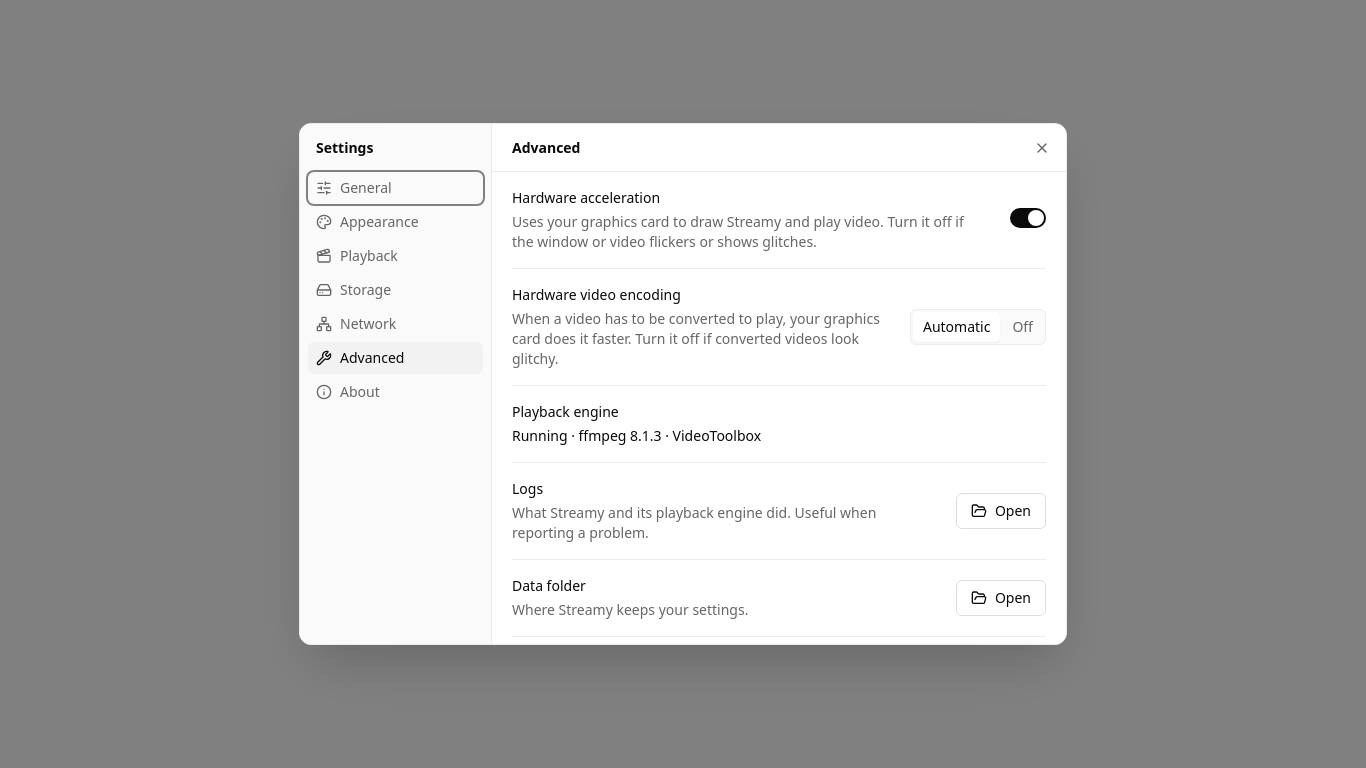
Test: Advanced › says what went wrong in plain words, even if told otherwise
Click the button "Advanced": {"x": 396, "y": 358} [308,342,483,374]
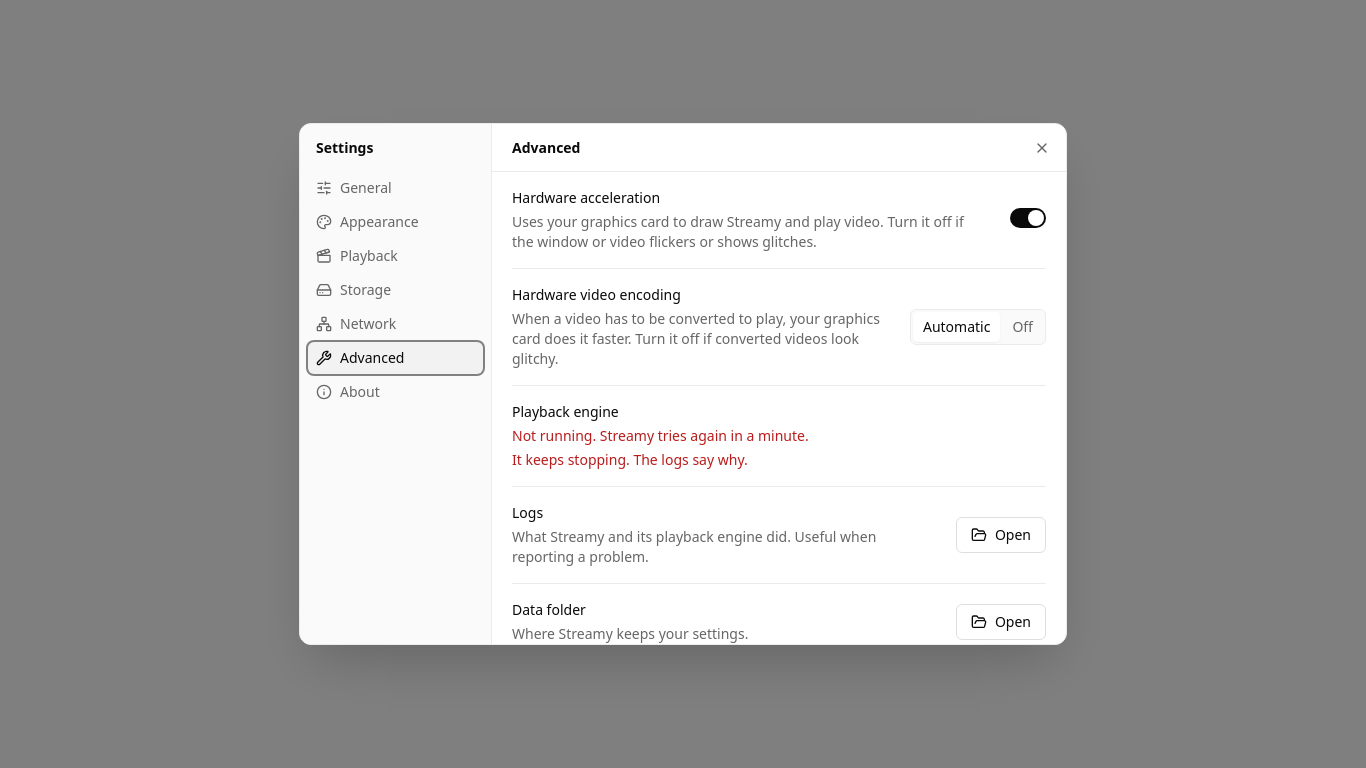
Now the text "It keeps stopping. The logs say why." is shown, box [512,450,748,469]
